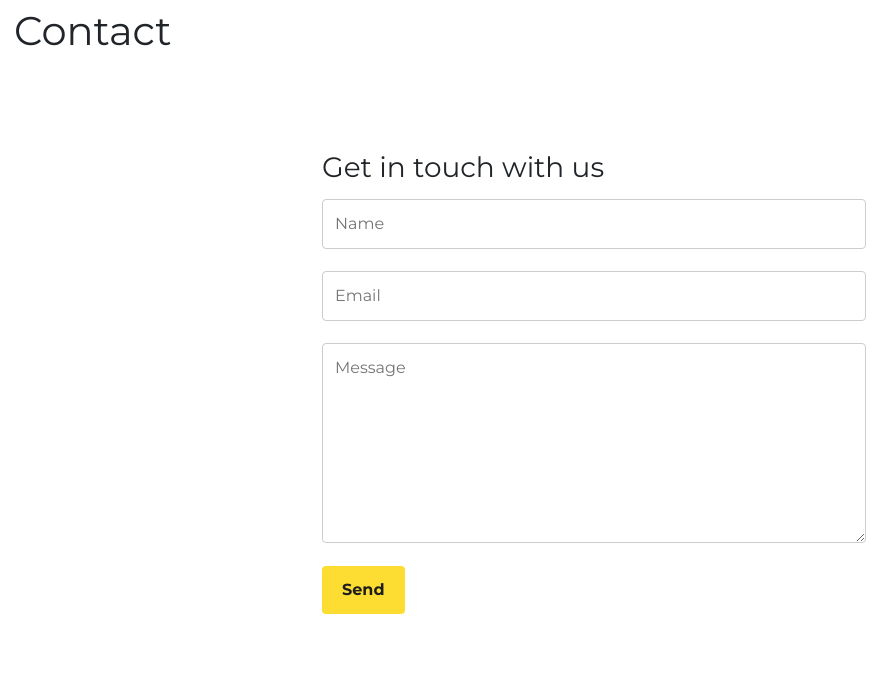
it: contact form recovers when reCAPTCHA is missing
The image size is (883, 679).
In the field with placeholder "Name": coordinates (594, 224) [322, 199, 866, 249], type "Jane Doe"
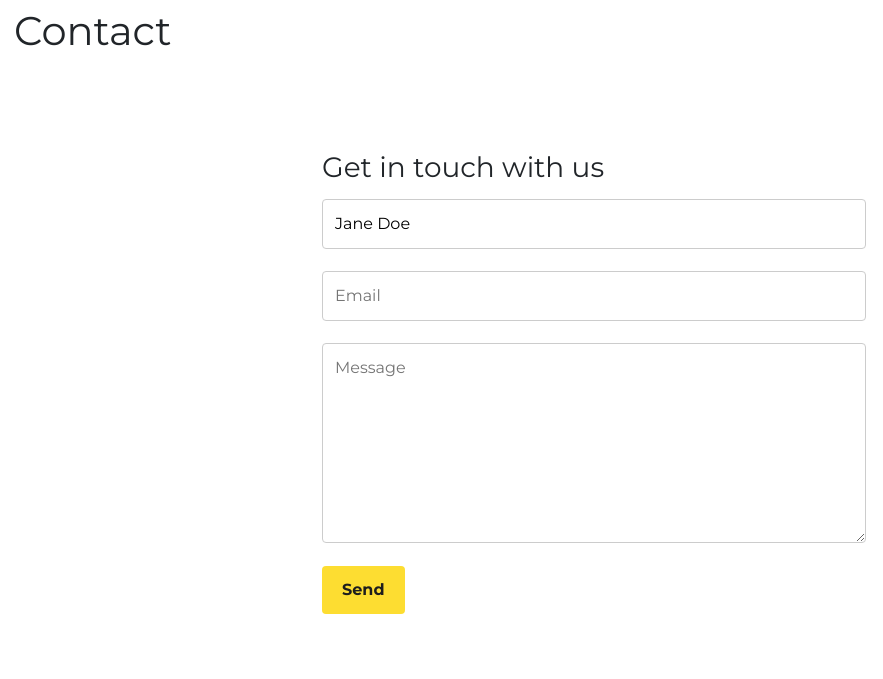
In the field with placeholder "Email": coordinates (594, 296) [322, 271, 866, 321], type "jane@example.com"
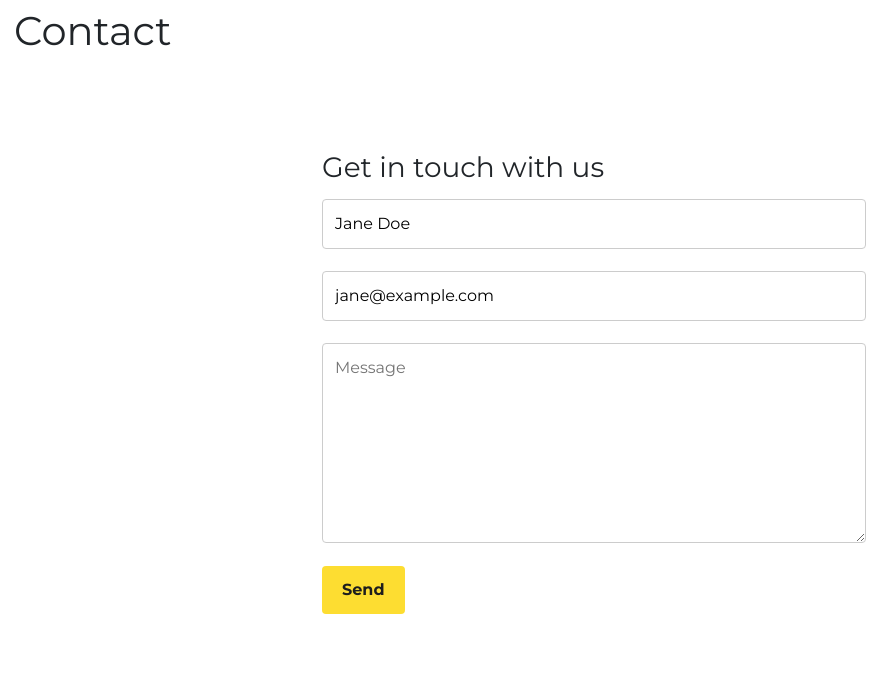
In the text box with placeholder "Message": coordinates (594, 443) [322, 343, 866, 543], type "Hello"
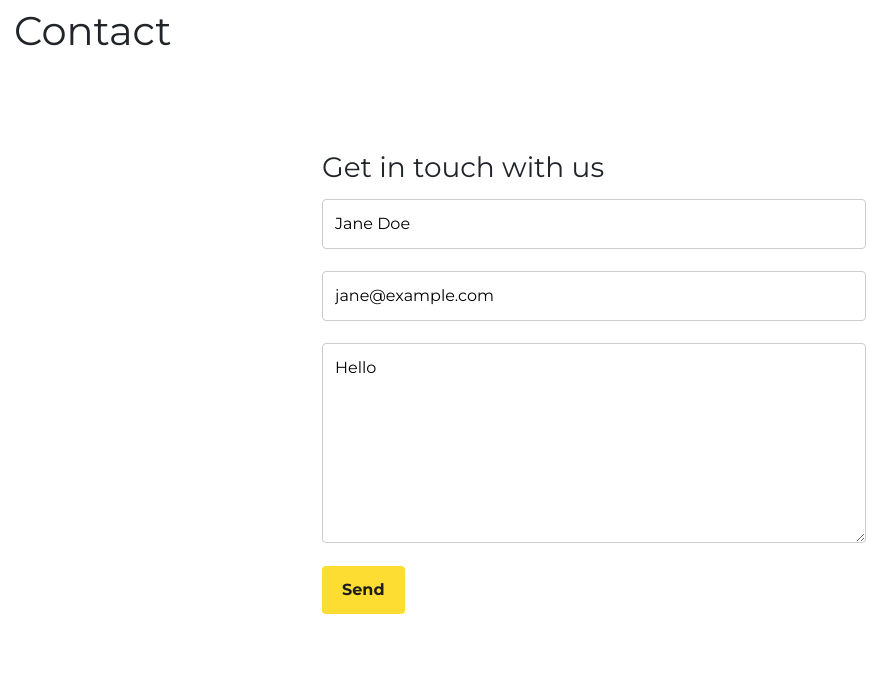
Submit the form named "Send", box [322, 193, 866, 614]
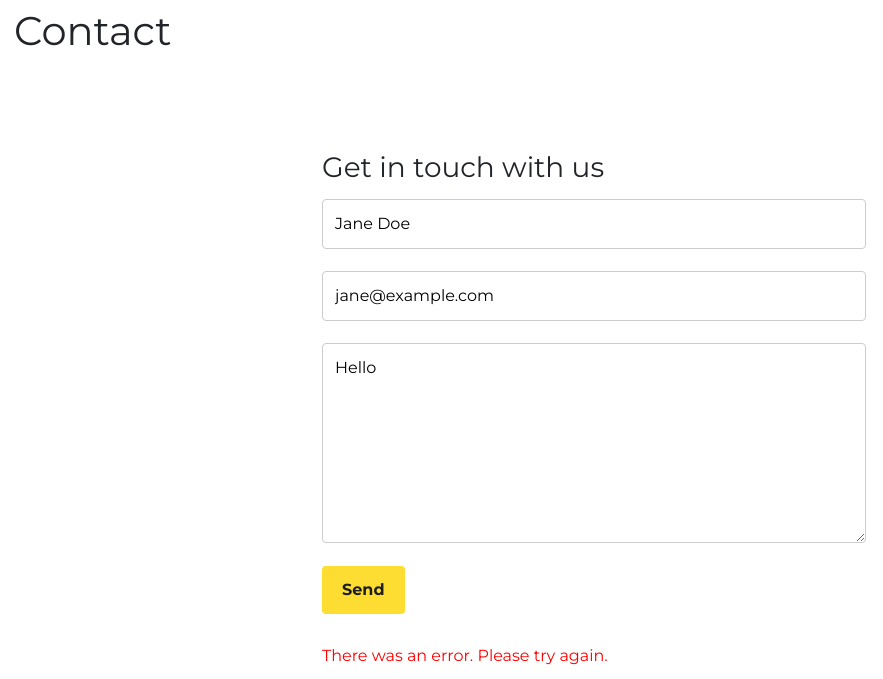
Expected: the button "Send" is enabled, [322, 566, 404, 614]
Now the message shows "Please try again", box [322, 646, 608, 665]
